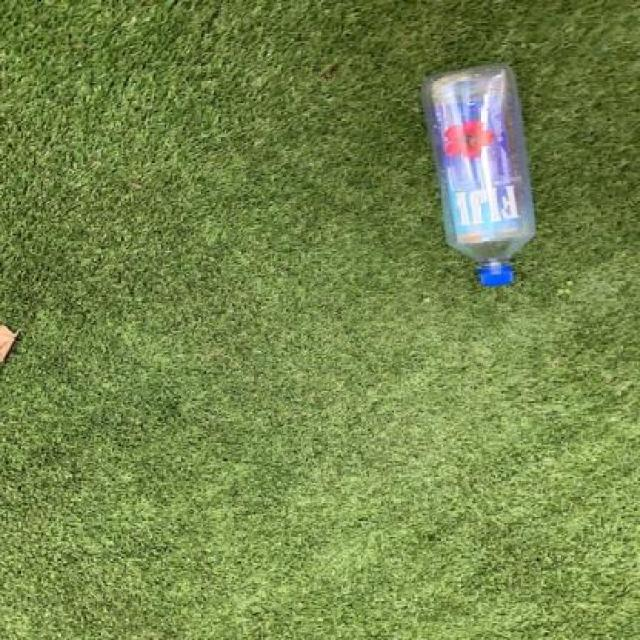trash: (422, 65, 541, 290)
